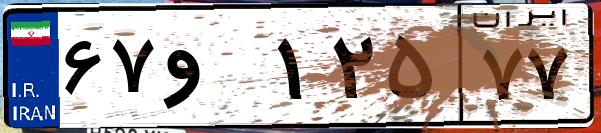1: (270, 28, 330, 110)
2: (330, 28, 385, 110)
5: (385, 28, 445, 110)
6: (57, 26, 110, 100)
7: (475, 38, 525, 113), (525, 38, 570, 115), (110, 28, 158, 98)
و: (158, 20, 270, 120)
